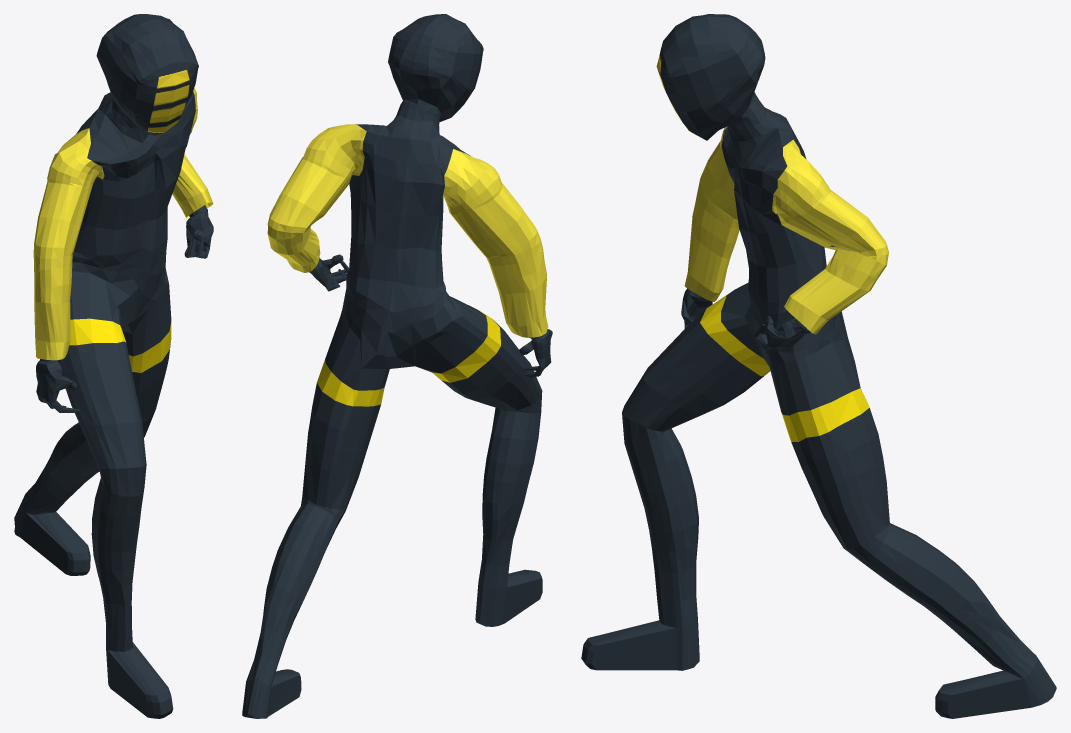
Rendered from Sentry_Stun_000007.obj.
The picture shows the model from 3 angles, left to right: view 1: azimuth 30°, elevation 25°; view 2: azimuth 150°, elevation 25°; view 3: azimuth 270°, elevation 25°; orthographic projection. The views are drawn at different scales.
Visible parts, largest first — view 1: Cube; view 2: Cube; view 3: Cube.
Part boxes in pixels (left/top/right/bottom): Cube: left=14, top=14, right=213, bottom=718; Cube: left=242, top=14, right=552, bottom=718; Cube: left=581, top=14, right=1056, bottom=718.
Bounding box in the file's own units: 1.27 × 3.49 × 2.23.
